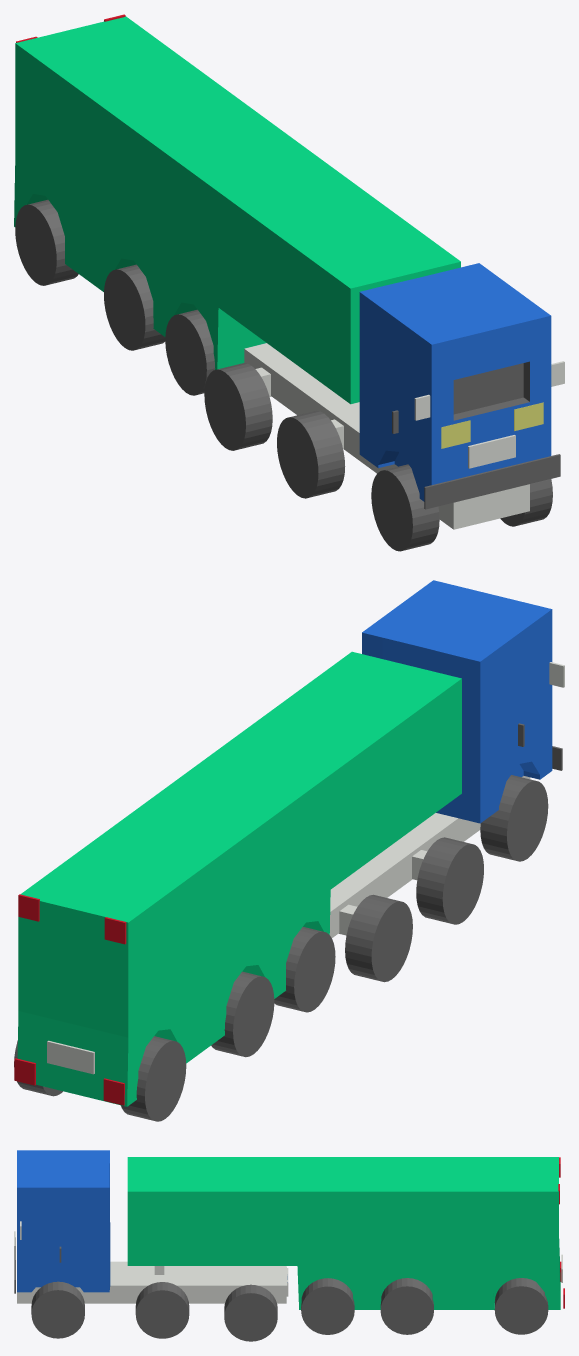
The model's file is truck.glb.
3 renders of one model, top to bottom at view 1: azimuth 30°, elevation 25°; view 2: azimuth 150°, elevation 25°; view 3: azimuth 270°, elevation 25°, orthographic. The views are drawn at different scales.
Parts seen in each view (by area): view 1: Cube; view 2: Cube; view 3: Cube.
Part boxes in pixels (x1,y1,x2,y2): Cube: (14, 14, 564, 551); Cube: (14, 580, 564, 1121); Cube: (14, 1150, 564, 1341).
Bounding box in the file's own units: 2.99 × 4.01 × 13.42.
